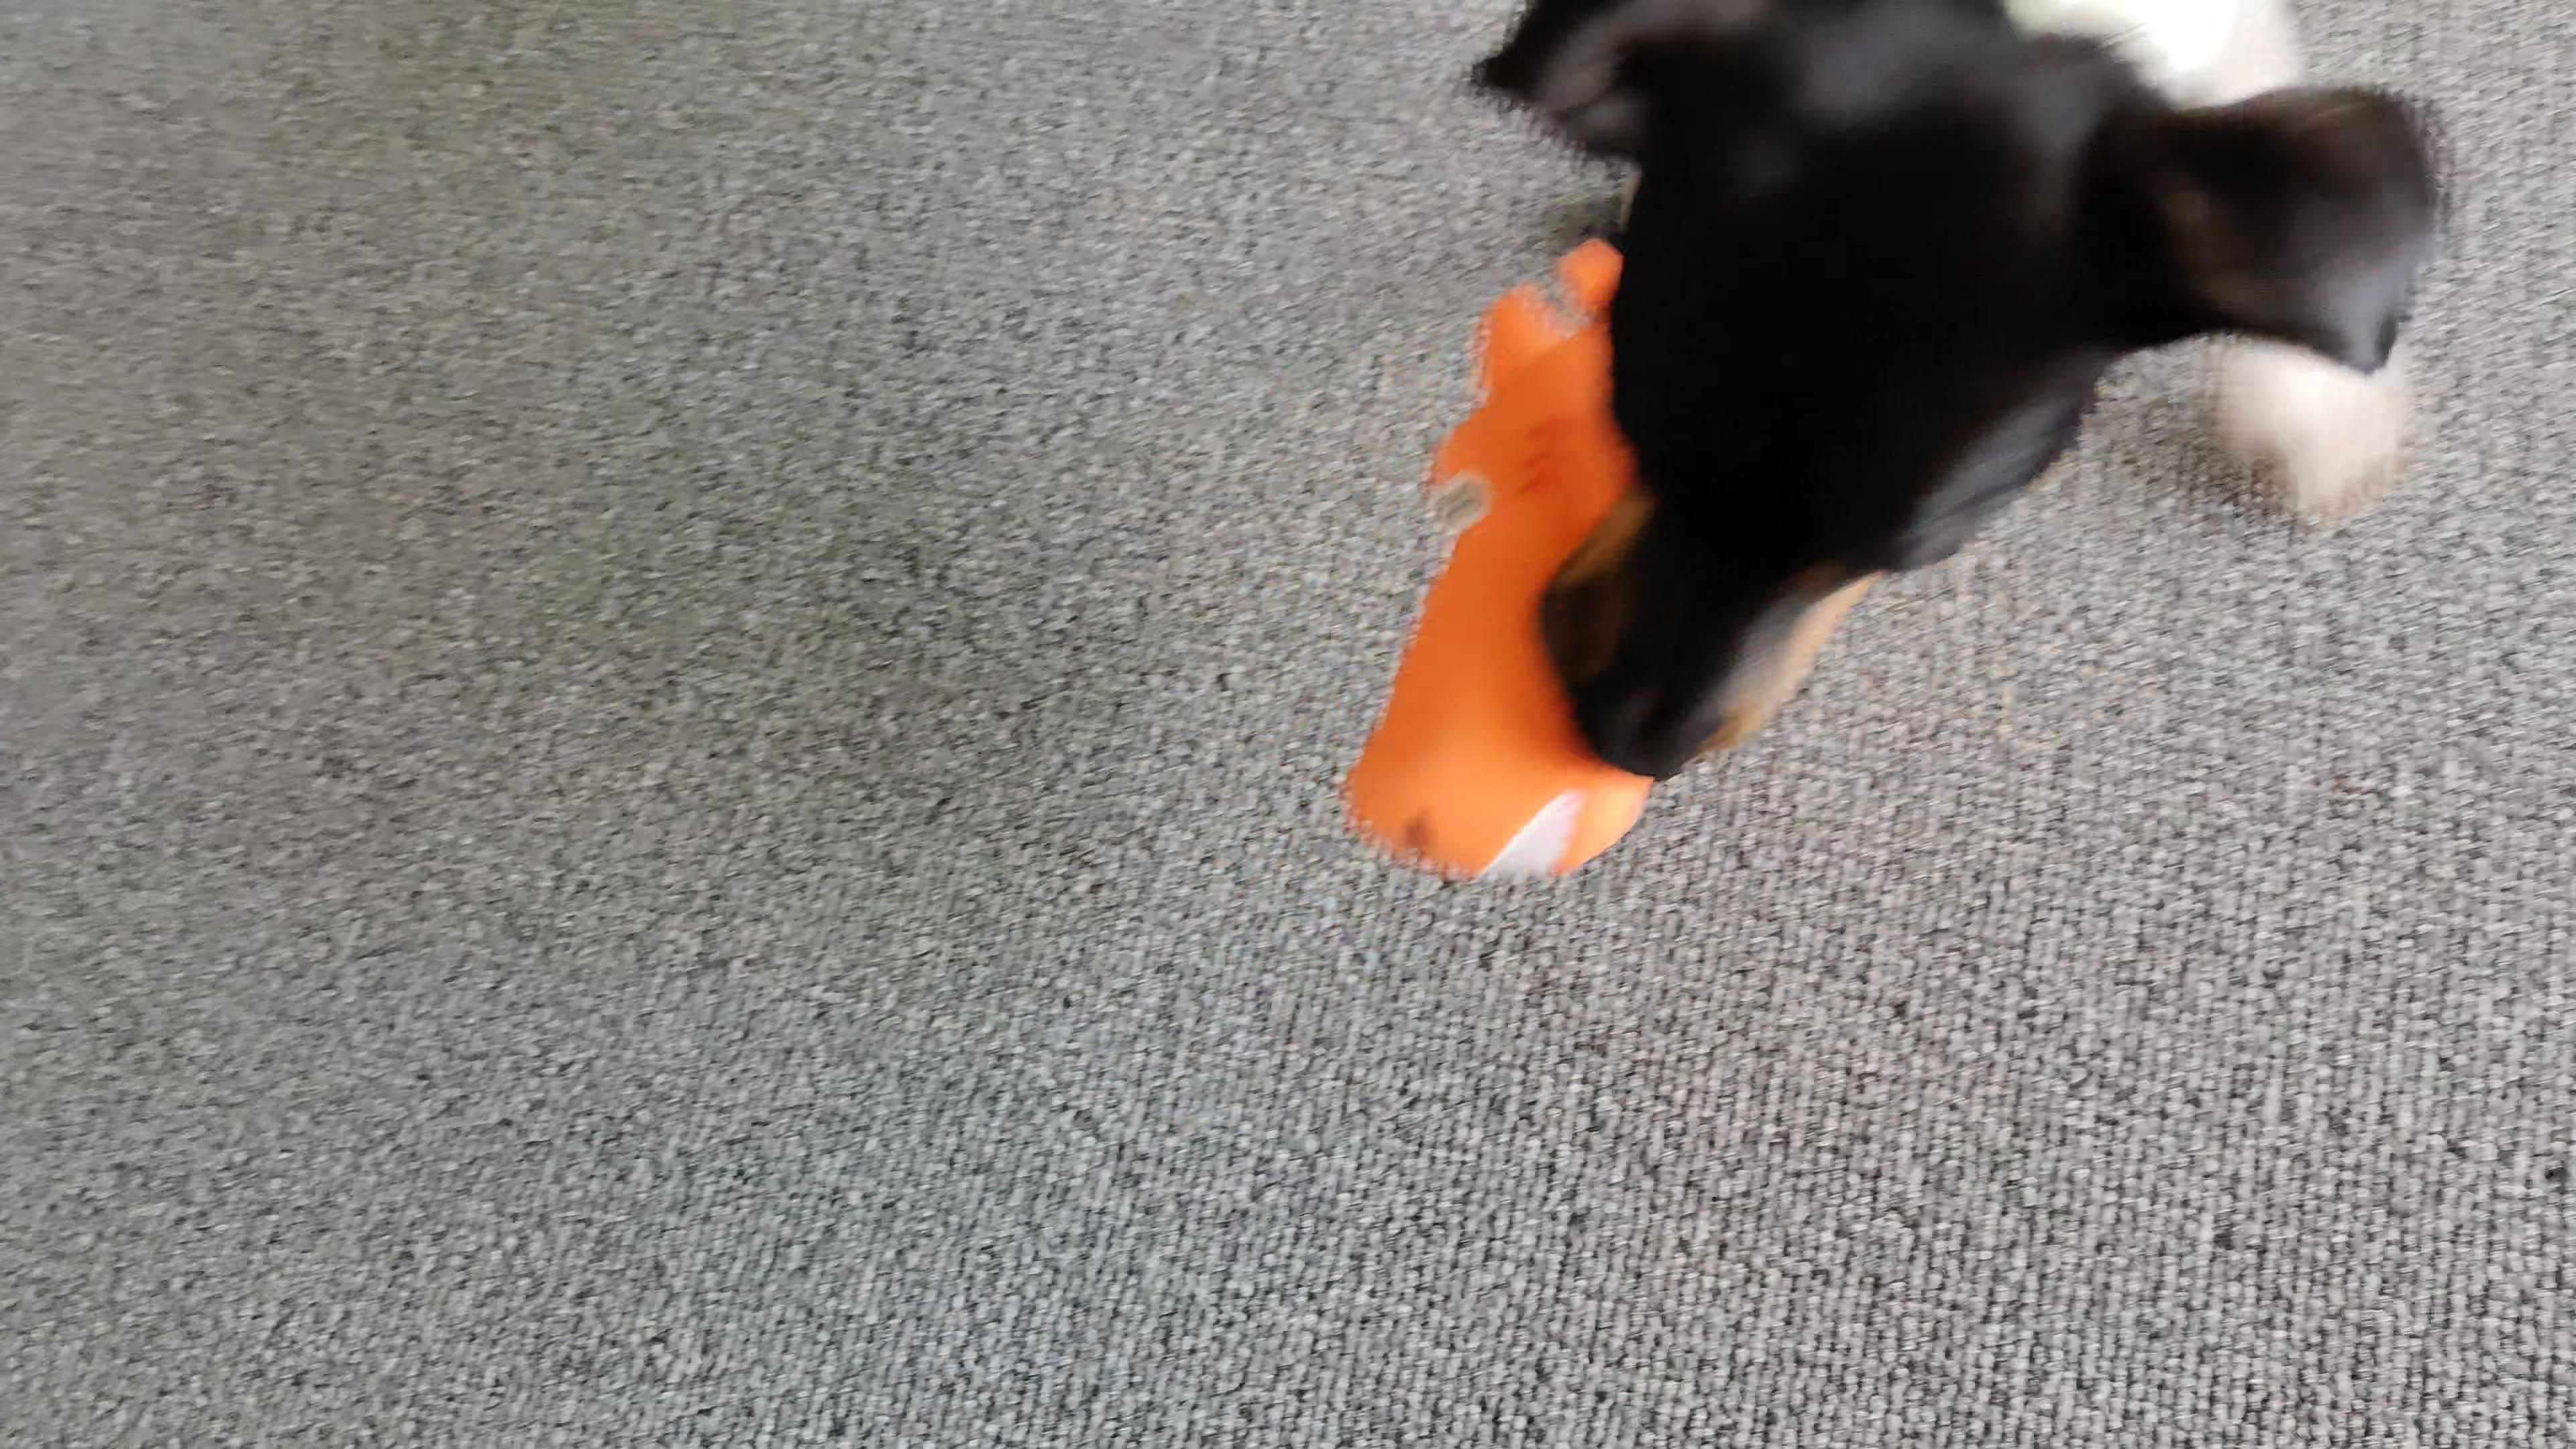Dog: (1426, 0, 2473, 809)
